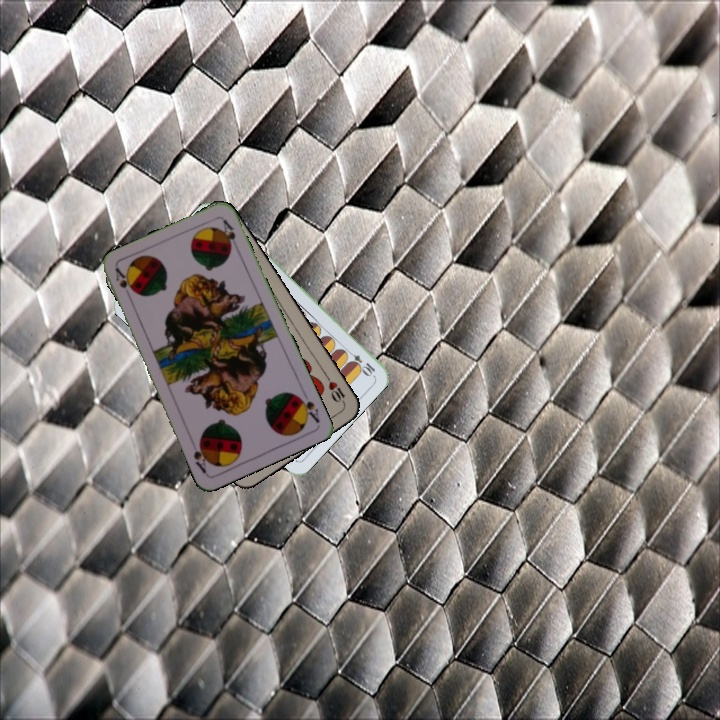E10: (342, 346, 378, 378)
H10: (321, 371, 348, 408)
SA: (292, 390, 322, 425), (111, 264, 135, 303)
